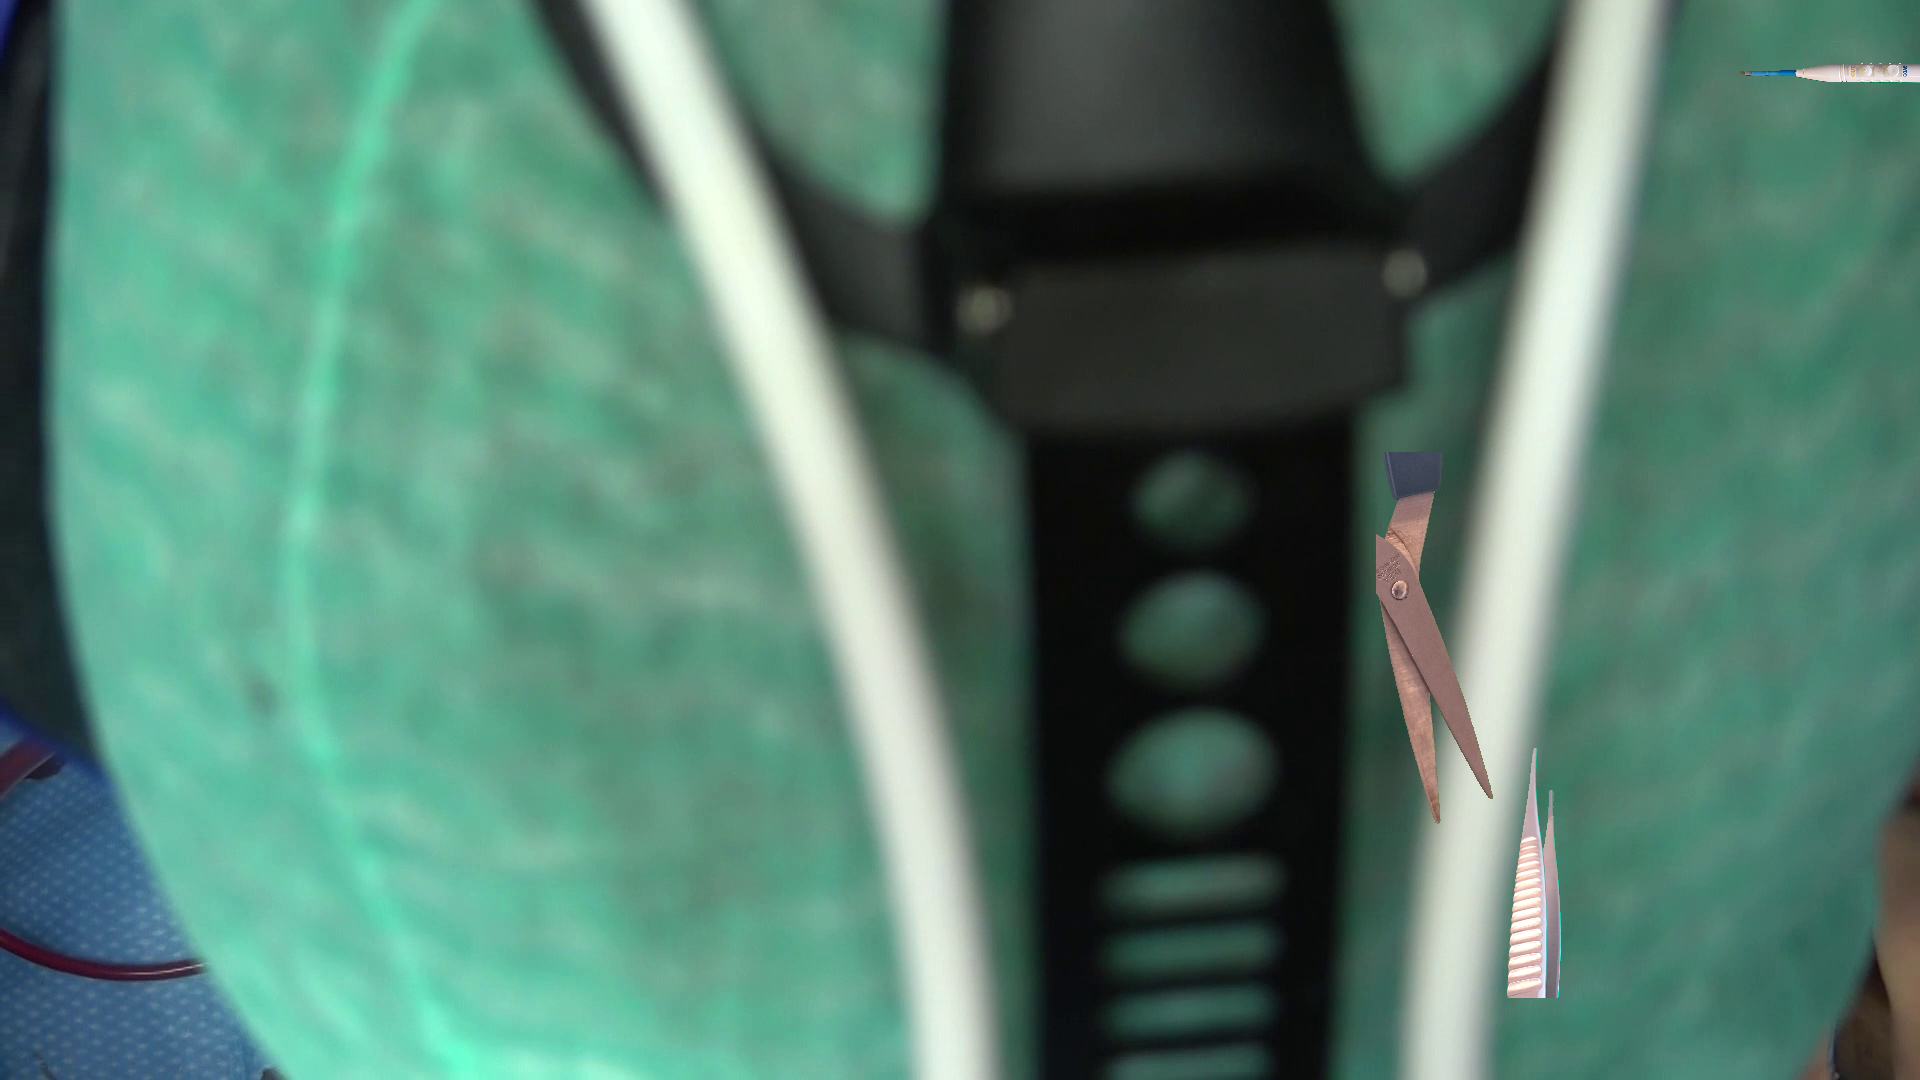diathermy: (1741, 63, 1919, 82)
forceps: (1507, 748, 1560, 997)
scissors: (1375, 452, 1491, 823)
